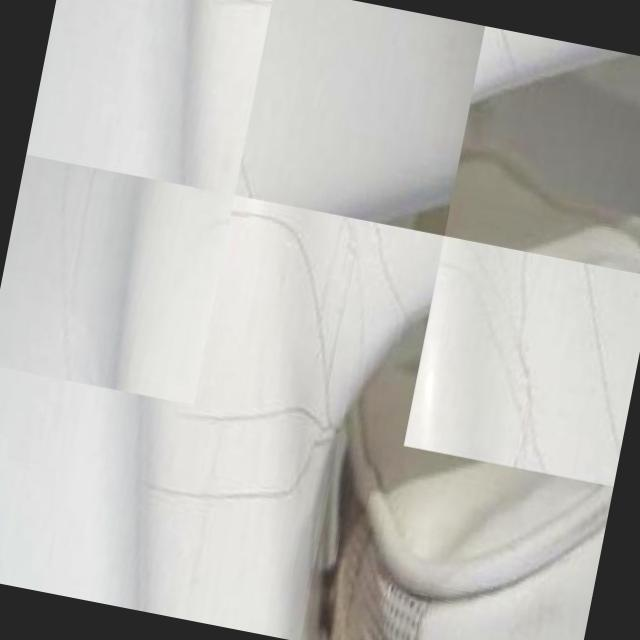crack: (174, 384, 336, 466), (163, 452, 303, 524), (216, 178, 340, 256)
